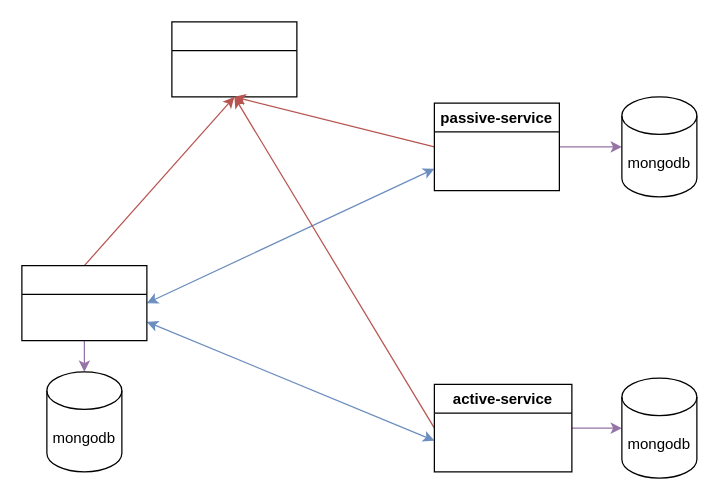
This 719x500 diagram has some shape labels left out. The shapes that lost their labels are listed below. From the top down, each one's box as (x1, y1, x2, y2) in pixels, then its label:
(171, 21, 297, 97): config-service
(21, 264, 147, 341): client-service
